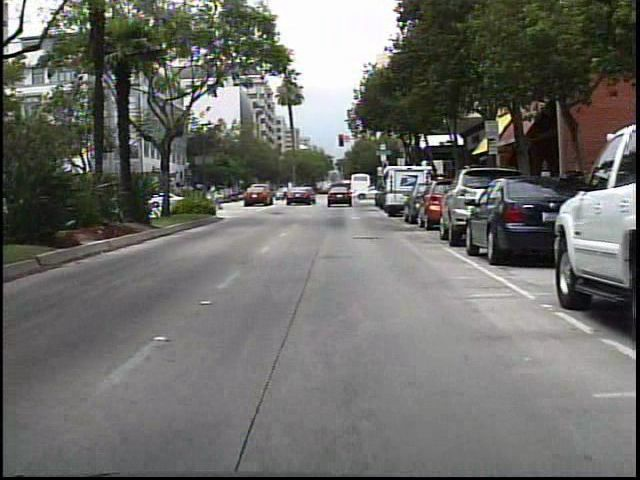person: (294, 183, 308, 205)
